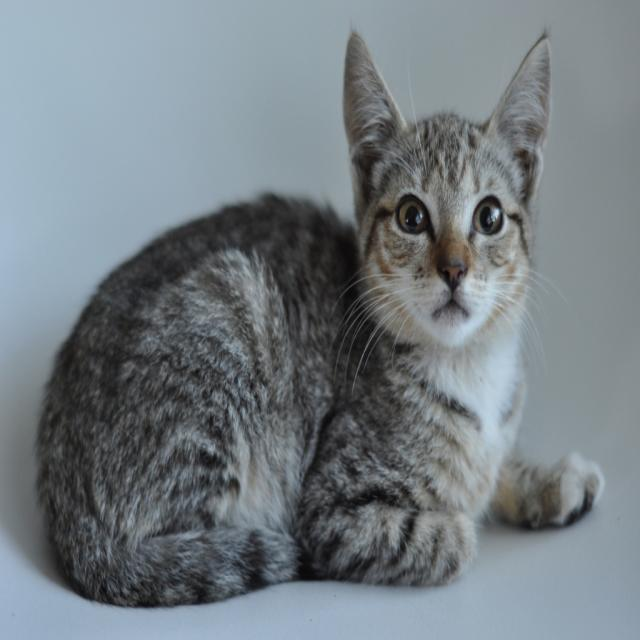Cat: (31, 13, 604, 609)
